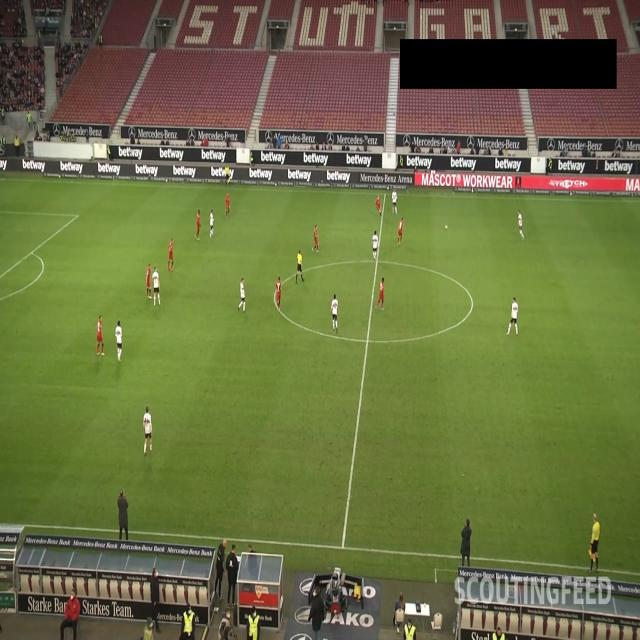ball: (444, 224, 448, 230)
